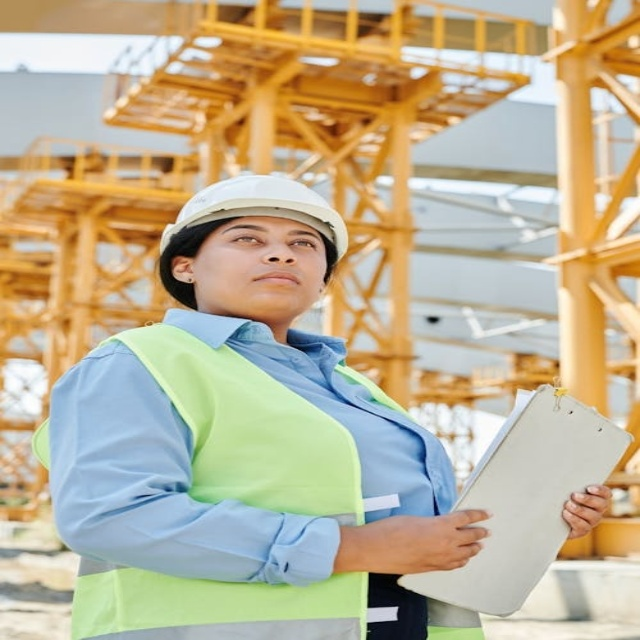Sin_gafas: (219, 221, 326, 252)
Sin_guantes: (359, 507, 496, 576), (560, 484, 611, 539)
Sin_mascara: (232, 262, 315, 302)
